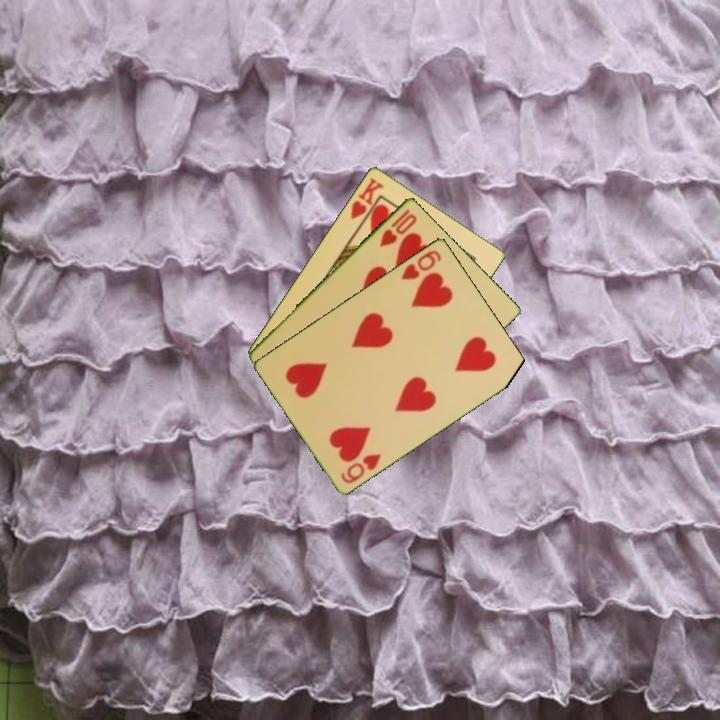10h: (376, 205, 420, 249)
6h: (397, 246, 444, 283), (337, 450, 385, 486)
Kh: (347, 173, 386, 229)
